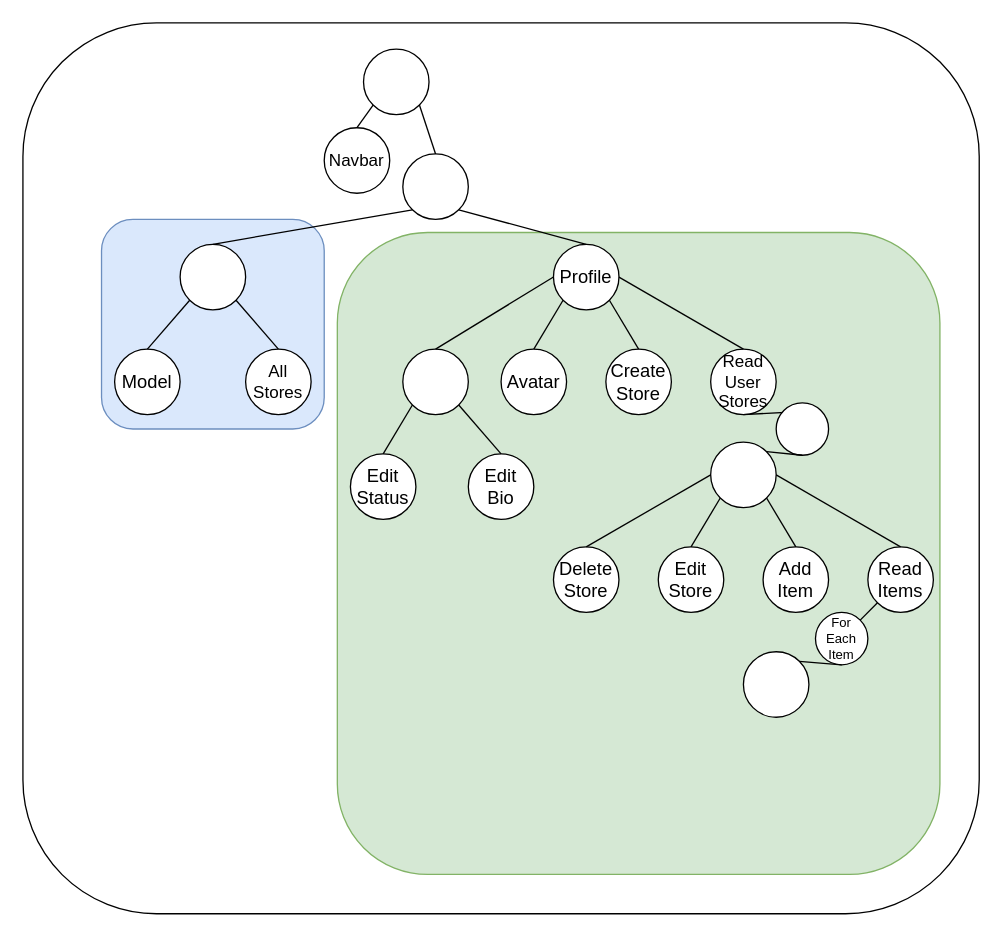
The diagram is 1002 pixels wide and 937 high, and some of its shapes have lost their labels. The shapes that lost their labels are listed below. From the top down, each one's centre as x and y in pixels, then its label:
pixel 395 81: App
pixel 435 186: Routes
pixel 212 276: Home
pixel 435 381: User Info
pixel 802 428: For Each Store
pixel 742 474: Display Store
pixel 775 683: Display Item
